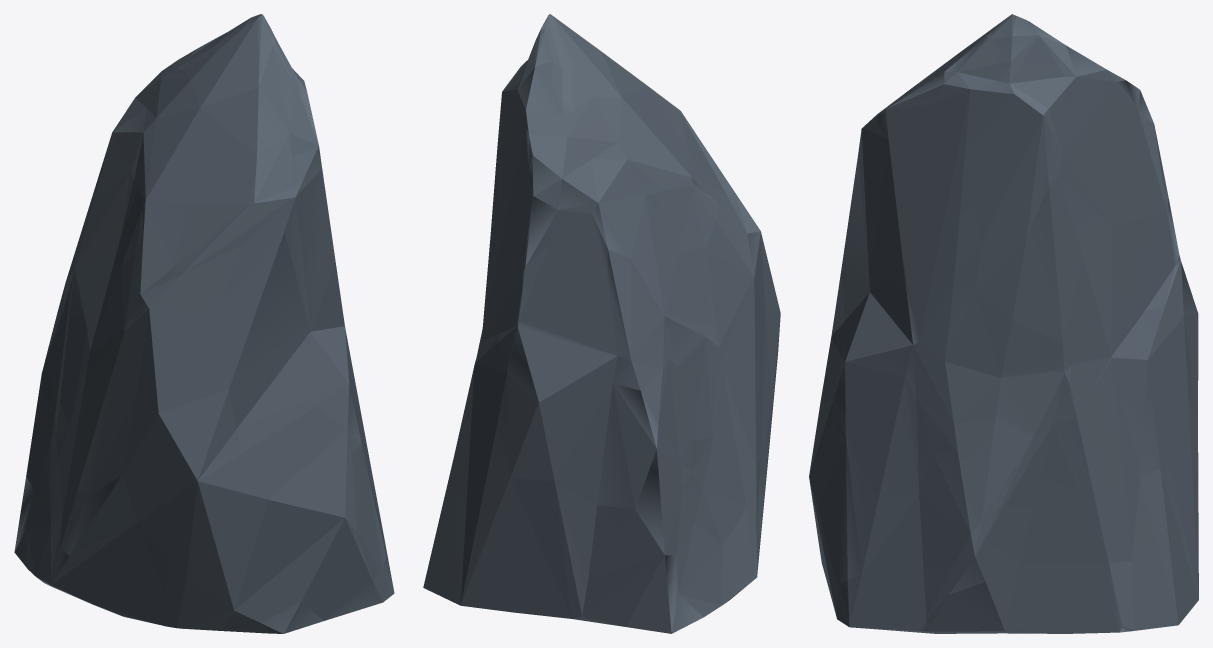
The model's file is boulder-wedge.glb.
3 renders of one model, left to right at view 1: azimuth 30°, elevation 25°; view 2: azimuth 150°, elevation 25°; view 3: azimuth 270°, elevation 25°, orthographic. The views are drawn at different scales.
Visible parts, largest first — view 1: boulder-wedge; view 2: boulder-wedge; view 3: boulder-wedge.
Part boxes in pixels (x1,y1,x2,y2): boulder-wedge: (14, 14, 394, 633); boulder-wedge: (423, 14, 780, 633); boulder-wedge: (809, 14, 1198, 633).
Size of the model in its own units: 0.9535 by 1.7 by 1.02.
